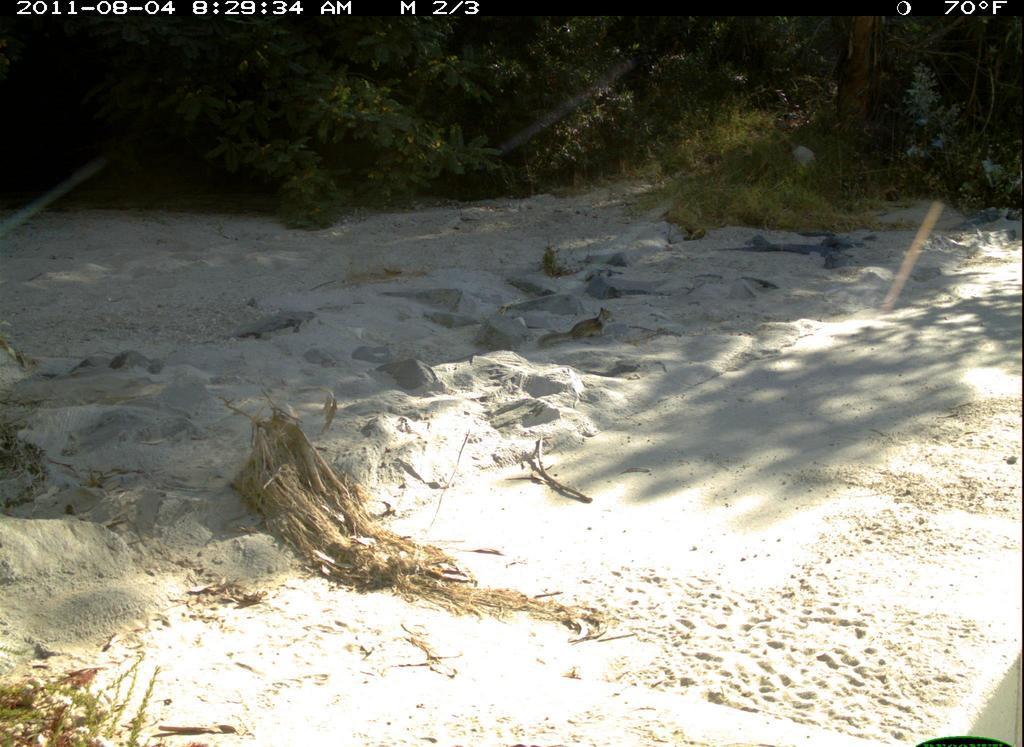squirrel: (533, 304, 619, 350)
